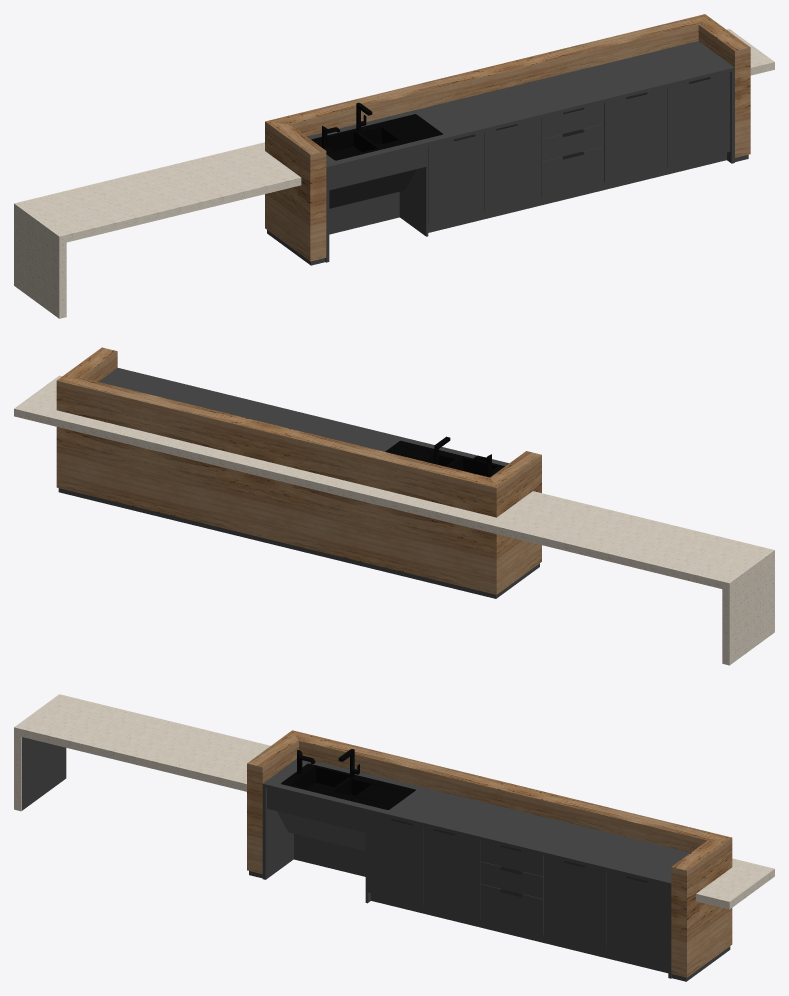
The model's file is cvk_rc.glb.
3 views of the same model, one above another, from view 1: azimuth 30°, elevation 25°; view 2: azimuth 150°, elevation 25°; view 3: azimuth 330°, elevation 25° (orthographic).
Visible parts, largest first — view 1: Carcass, Bin_01, Bin_02, F_02, F_01, Sink, DR_03, DR_02, DR_01; view 2: Carcass, Sink; view 3: Carcass, Bin_01, Bin_02, F_02, F_01, Sink, DR_03, DR_02, DR_01.
Boxes of the visible parts, x1,y1,x2,y2 form: Carcass: (14, 14, 774, 318); Bin_01: (604, 87, 667, 182); Bin_02: (667, 72, 730, 166); F_02: (484, 118, 541, 211); F_01: (428, 132, 484, 225); Sink: (311, 102, 442, 160); DR_03: (541, 146, 604, 197); DR_02: (541, 124, 604, 161); DR_01: (541, 103, 604, 138); Carcass: (14, 347, 774, 665); Sink: (385, 436, 504, 477); Carcass: (14, 694, 774, 981); Bin_01: (543, 855, 606, 950); Bin_02: (606, 871, 668, 965); F_02: (424, 826, 480, 919); F_01: (367, 813, 423, 905); Sink: (281, 749, 415, 809); DR_03: (480, 884, 543, 934); DR_02: (480, 861, 543, 898); DR_01: (480, 840, 543, 876).
Size of the model in its own units: 6.83 by 1.12 by 0.9.
7 materials, 2 textured.
